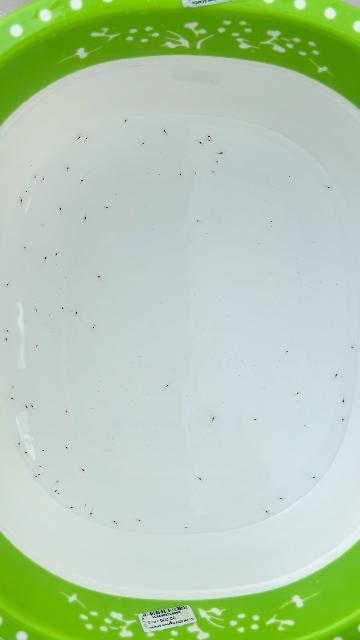benur: (210, 414, 217, 423), (165, 382, 171, 388), (44, 254, 49, 260), (341, 398, 345, 405), (91, 324, 95, 331), (19, 197, 23, 204), (198, 477, 203, 482), (78, 134, 83, 139), (341, 415, 345, 421), (60, 304, 64, 310), (42, 176, 46, 182), (162, 127, 166, 133), (219, 151, 225, 155), (205, 134, 211, 138), (312, 476, 317, 480), (280, 497, 285, 501), (266, 511, 270, 516), (68, 505, 73, 509), (25, 451, 29, 456), (23, 404, 28, 408), (9, 395, 13, 400), (35, 343, 39, 348), (79, 179, 83, 184), (124, 118, 129, 122), (96, 273, 100, 278), (199, 142, 204, 146), (64, 444, 68, 449), (297, 390, 301, 394), (286, 349, 290, 353), (82, 469, 86, 473), (31, 405, 35, 409), (5, 328, 9, 332), (33, 175, 37, 179), (142, 140, 146, 144), (334, 374, 337, 379), (138, 519, 143, 522), (112, 520, 117, 523), (89, 512, 92, 517), (52, 490, 57, 493), (17, 442, 20, 447), (11, 384, 14, 389), (5, 336, 8, 341), (34, 307, 37, 312), (5, 283, 8, 288), (54, 253, 57, 258), (67, 165, 70, 170), (215, 158, 218, 163), (207, 139, 212, 142), (254, 418, 258, 421), (184, 526, 188, 529), (56, 479, 60, 482), (33, 474, 37, 477), (37, 464, 41, 467), (40, 450, 44, 453), (58, 206, 61, 210), (86, 135, 89, 139), (179, 173, 182, 177), (104, 206, 108, 209), (66, 411, 69, 415), (328, 187, 332, 190), (75, 312, 77, 317), (84, 217, 86, 222), (37, 473, 40, 476), (194, 172, 197, 175), (195, 219, 198, 222), (351, 347, 353, 351), (58, 493, 62, 495), (24, 245, 26, 249), (25, 190, 29, 192), (84, 504, 86, 507), (42, 224, 44, 227), (212, 171, 214, 174), (115, 523, 117, 525)
